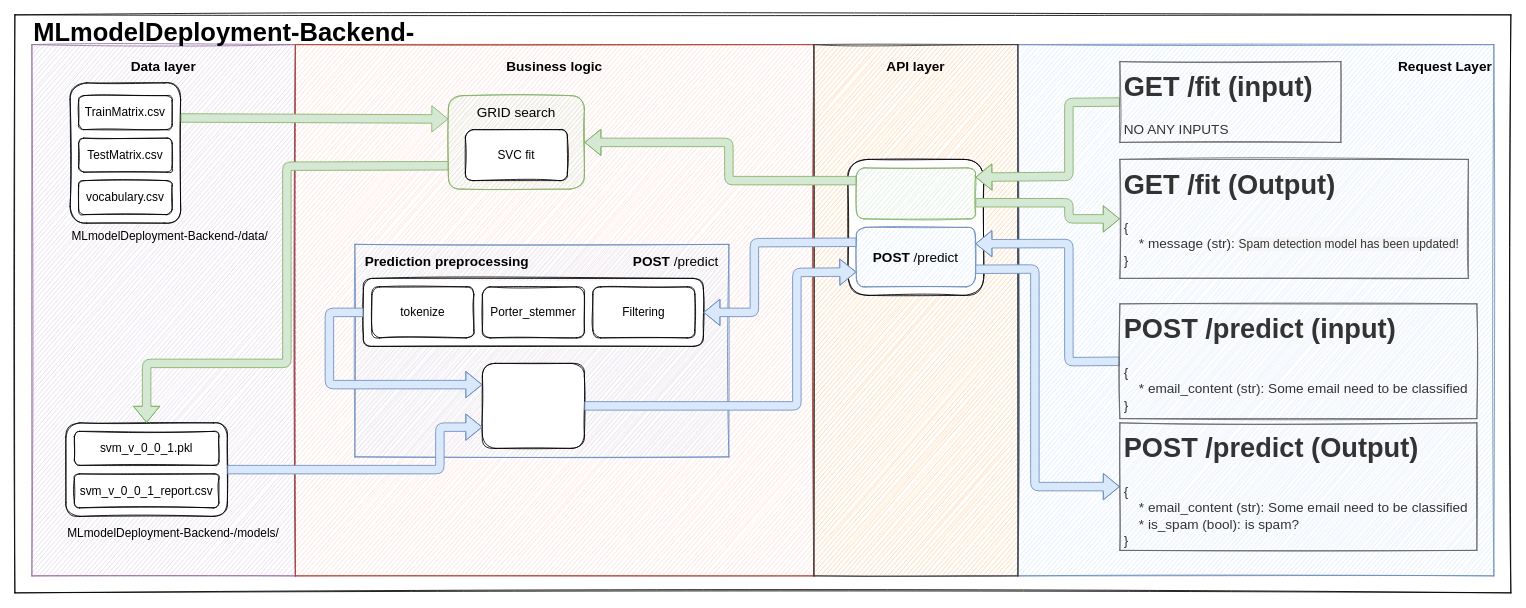
Some shapes in this 1526 by 608 pixel diagram are drawn without their labels. The centre of each missing label's shape, as x and y in pixels:
GET /fit: the point at 915,193
predict: the point at 533,405
